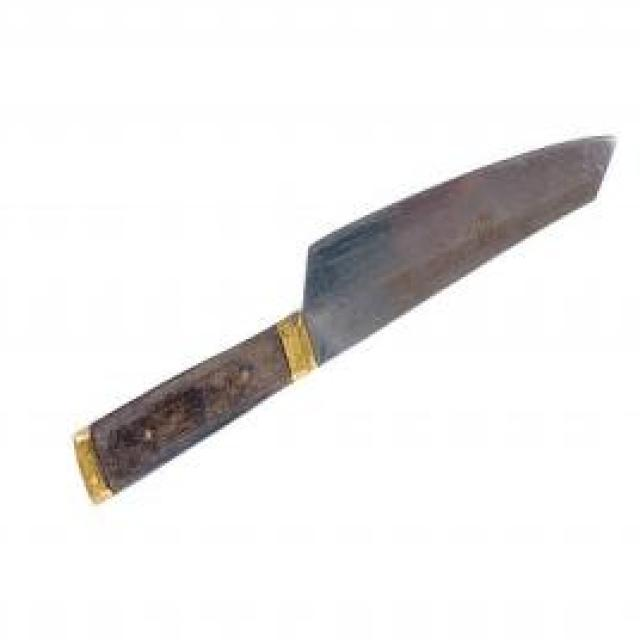knife: (69, 128, 621, 506)
